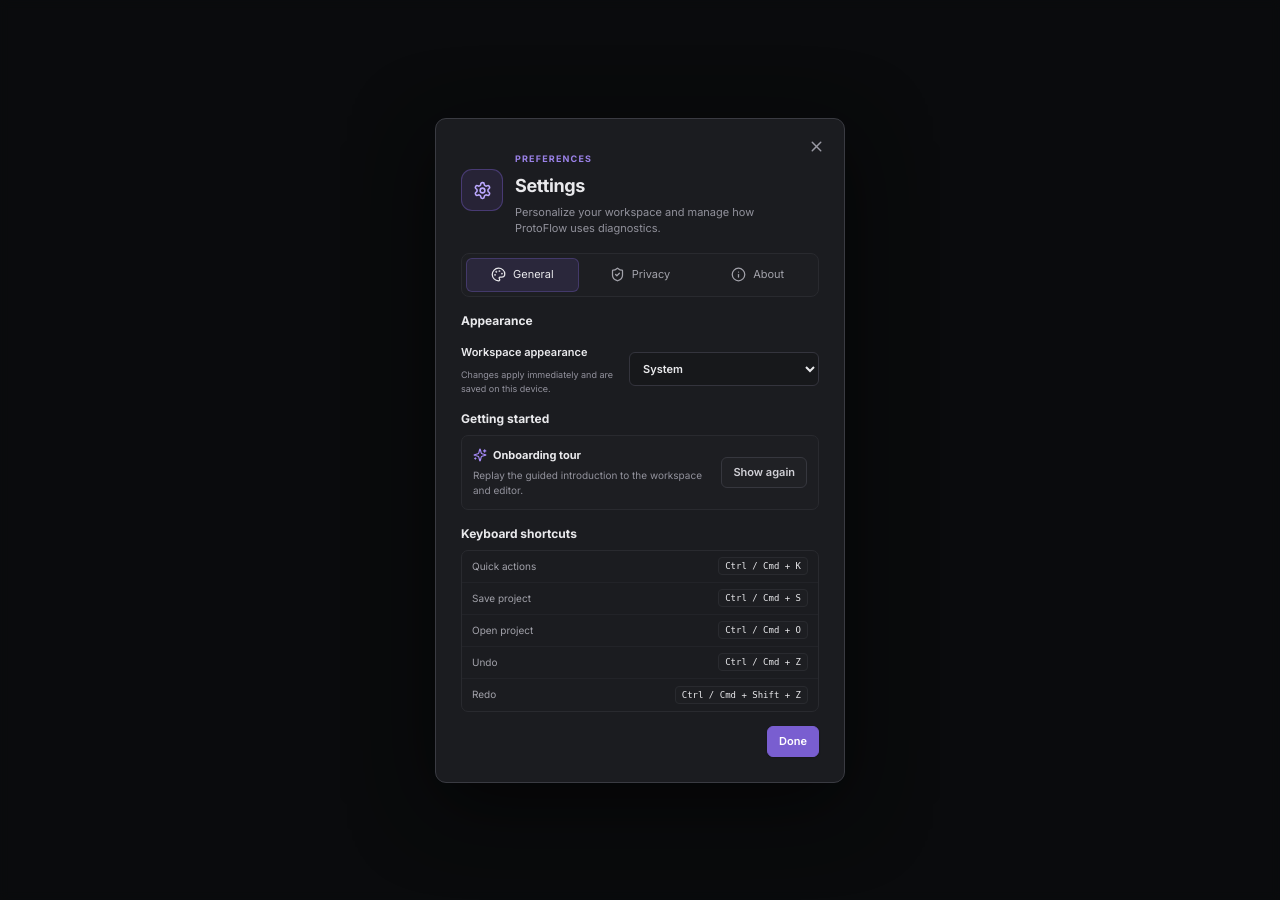
Test: Settings dialog navigation and accessibility › opens About and shows the application version
Click the button "About": (758, 274) [701,258,814,292]
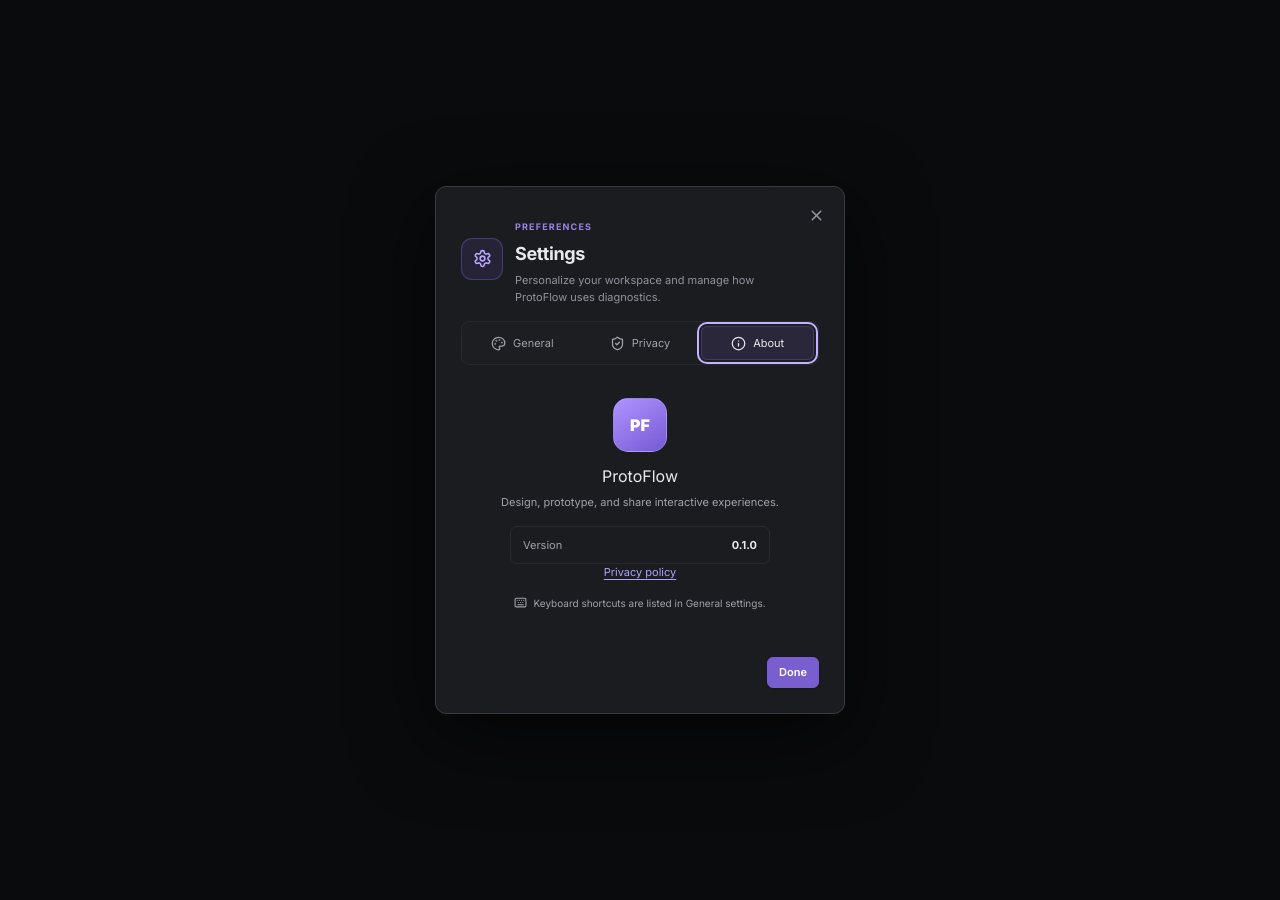
expect the heading "ProtoFlow" is shown: met, box [602,464,678,488]
expect the text "Version" is shown: met, box [523,537,562,553]
